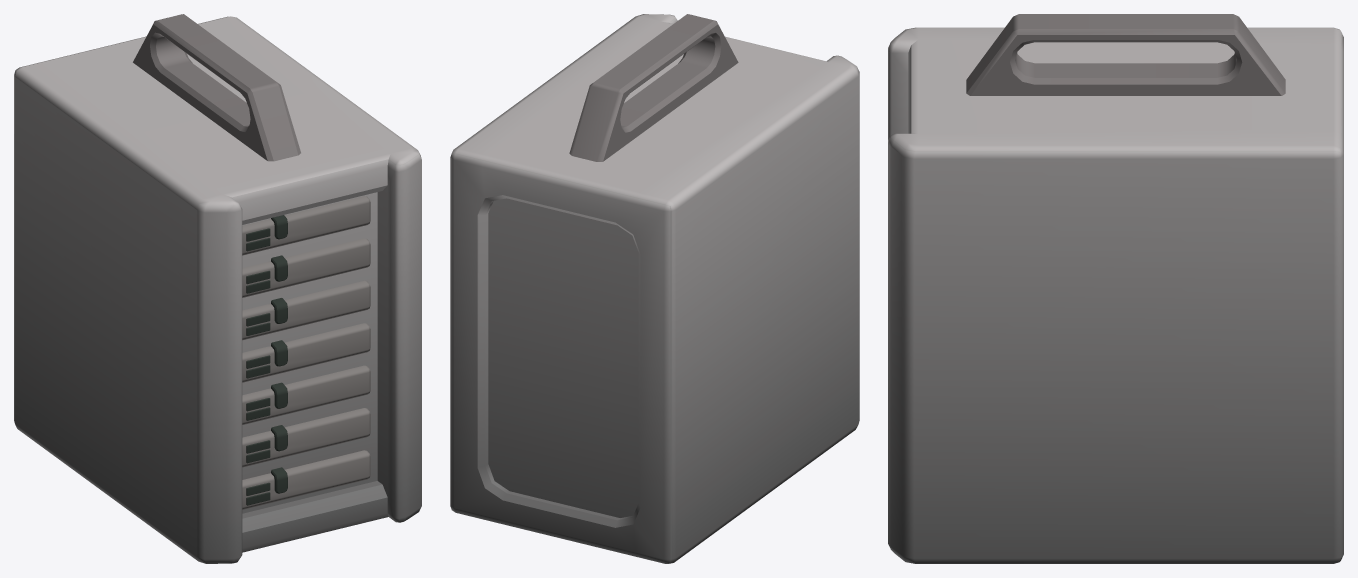
Rendered from SM_prop_Laboratory_Server.fbx.
The picture shows the model from 3 angles, left to right: view 1: azimuth 30°, elevation 25°; view 2: azimuth 150°, elevation 25°; view 3: azimuth 270°, elevation 25°; orthographic projection. The views are drawn at different scales.
Visible parts, largest first — view 1: SM_prop_Laboratory_Server; view 2: SM_prop_Laboratory_Server; view 3: SM_prop_Laboratory_Server.
Part boxes in pixels (<box>): SM_prop_Laboratory_Server: <box>14,14,421,563</box>; SM_prop_Laboratory_Server: <box>450,14,859,563</box>; SM_prop_Laboratory_Server: <box>888,14,1343,563</box>.
Size of the model in its own units: 13.5 by 24.63 by 20.63.
Materials: 1 (1 with a texture image).
